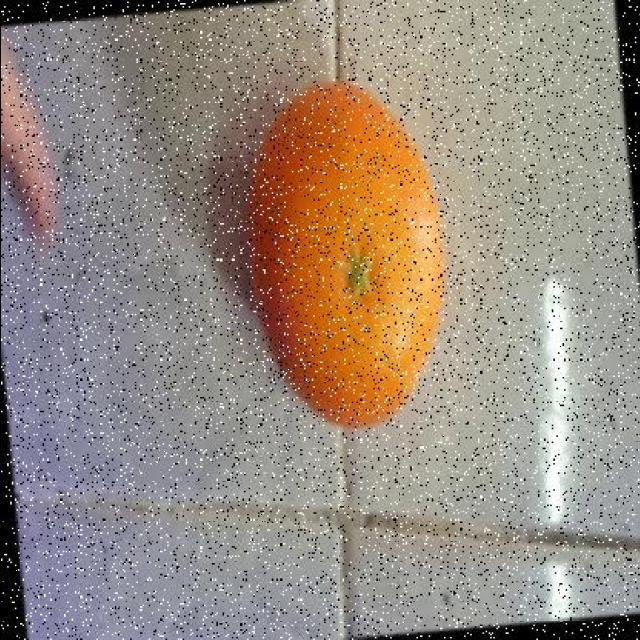Orange: (243, 78, 448, 430)
